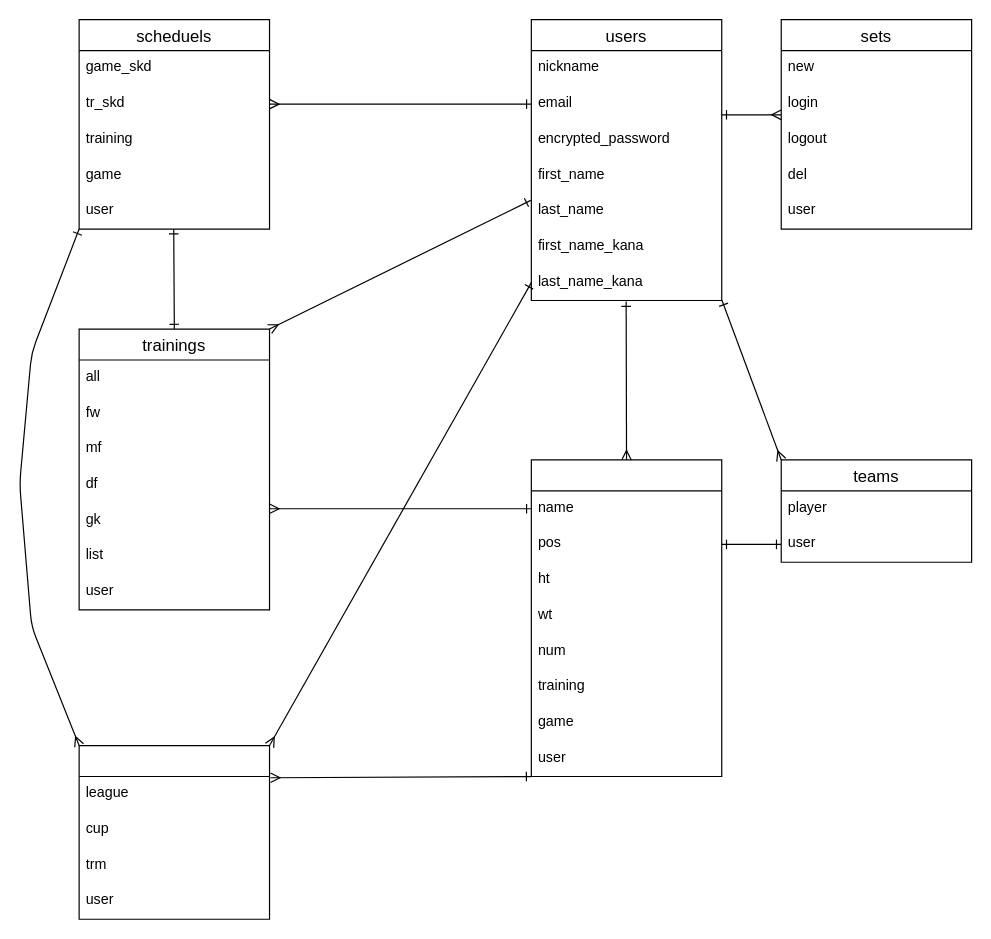
Image size: 991x939. Some labels were removed from this diagram. Here are the shapes that lost their labels. From the top down, the box of each, then its label:
(530, 459, 722, 776): players
(78, 744, 270, 919): games
